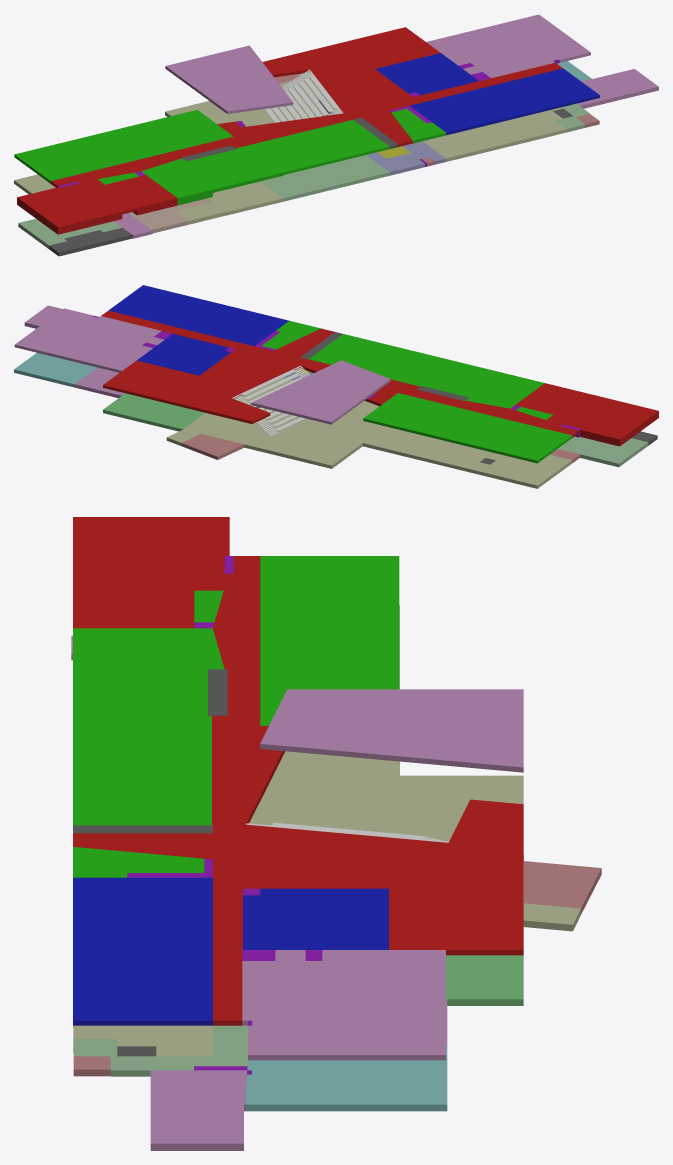
The model's file is HP_ylakoulu_lattiat.fbx.
3 views of the same model, one above another, from view 1: azimuth 30°, elevation 25°; view 2: azimuth 150°, elevation 25°; view 3: azimuth 270°, elevation 25° (orthographic). The views are drawn at different scales.
Parts seen in each view (by area): view 1: 3Sx2w7_Xj1WwjPFoUhchPs, 0JvsKLXr97uedzTtLonVL7, 1XAcVgHUT1_hqhwb8WZtsH, 0Q25QL5XXBWOU3B0rr2bVC, 0T1HHcRCD7l8njKDAKVagl, 29yJBF81f4cQ$mz9pebqa8, 0$y$bocg94qO5Yg2z1baHo, 0b$gtC8NLEfAL13YomXfX7, 1H4VGEfjr6kBUSTqSLbUBB, 2WGVbPY1v3bBXtQBcSOHvX, 36s_riun93x9s4in2yH6dV, 0g_fd8asP52A6I8m4xdDQW (+85 smaller); view 2: 3s9IEgrcr6s8_CiRSGP440, 3isSQK3Wn0Lw2MiONYXe3S, 1PxlLmPzL2jv0tPq4JHEZV, 2RDxyPFsH5audVr$kATFK7, 3ABXynqgrCjQQi4cBiM2nl, 3Sx2w7_Xj1WwjPFoUhchPs, 3m7nOLVGPEr9SlXtVJ8asn, 2WGVbPY1v3bBXtQBcSOHvX, 0g_fd8asP52A6I8m4xdDQW, 29yJBF81f4cQ$mz9pebqa8, 0b$gtC8NLEfAL13YomXfX7, 1H4VGEfjr6kBUSTqSLbUBB (+90 smaller); view 3: 3ABXynqgrCjQQi4cBiM2nl, 3Sx2w7_Xj1WwjPFoUhchPs, 3xx2r5phD6UhOp1UZ8fkfN, 0g_fd8asP52A6I8m4xdDQW, 0z5WwFlV97Ixe3FqGdU0d0, 29yJBF81f4cQ$mz9pebqa8, 3Q8IfFkgv31Og4U_YzRl5z, 0b$gtC8NLEfAL13YomXfX7, 0QmtLCYJn7qepGNhJcQa_j, 3isSQK3Wn0Lw2MiONYXe3S, 3v89wFmMHBe8UxUqZb2yNu, 2RDxyPFsH5audVr$kATFK7 (+91 smaller).
Boxes of the visible parts, x1,y1,x2,y2 form: 3Sx2w7_Xj1WwjPFoUhchPs: (206, 86, 271, 113); 0JvsKLXr97uedzTtLonVL7: (301, 163, 365, 192); 1XAcVgHUT1_hqhwb8WZtsH: (37, 205, 89, 234); 0Q25QL5XXBWOU3B0rr2bVC: (121, 186, 177, 215); 0T1HHcRCD7l8njKDAKVagl: (262, 174, 320, 201); 29yJBF81f4cQ$mz9pebqa8: (414, 67, 478, 92); 0$y$bocg94qO5Yg2z1baHo: (69, 197, 122, 226); 0b$gtC8NLEfAL13YomXfX7: (395, 53, 459, 78); 1H4VGEfjr6kBUSTqSLbUBB: (185, 71, 245, 97); 2WGVbPY1v3bBXtQBcSOHvX: (165, 56, 225, 83); 36s_riun93x9s4in2yH6dV: (161, 177, 212, 205); 0g_fd8asP52A6I8m4xdDQW: (205, 45, 261, 70); 3s9IEgrcr6s8_CiRSGP440: (286, 442, 351, 468); 3isSQK3Wn0Lw2MiONYXe3S: (181, 434, 244, 459); 1PxlLmPzL2jv0tPq4JHEZV: (590, 418, 639, 446); 2RDxyPFsH5audVr$kATFK7: (205, 398, 270, 423); 3ABXynqgrCjQQi4cBiM2nl: (103, 395, 162, 422); 3Sx2w7_Xj1WwjPFoUhchPs: (333, 366, 390, 395); 3m7nOLVGPEr9SlXtVJ8asn: (143, 405, 201, 431); 2WGVbPY1v3bBXtQBcSOHvX: (293, 398, 350, 424); 0g_fd8asP52A6I8m4xdDQW: (251, 390, 312, 415); 29yJBF81f4cQ$mz9pebqa8: (155, 334, 216, 357); 0b$gtC8NLEfAL13YomXfX7: (137, 347, 198, 371); 1H4VGEfjr6kBUSTqSLbUBB: (313, 384, 370, 410); 3ABXynqgrCjQQi4cBiM2nl: (446, 960, 523, 1005); 3Sx2w7_Xj1WwjPFoUhchPs: (269, 689, 368, 726); 3xx2r5phD6UhOp1UZ8fkfN: (150, 1070, 246, 1114); 0g_fd8asP52A6I8m4xdDQW: (446, 726, 523, 772); 0z5WwFlV97Ixe3FqGdU0d0: (287, 1020, 368, 1060); 29yJBF81f4cQ$mz9pebqa8: (243, 906, 316, 949); 3Q8IfFkgv31Og4U_YzRl5z: (110, 1025, 248, 1076); 0b$gtC8NLEfAL13YomXfX7: (316, 906, 388, 949); 0QmtLCYJn7qepGNhJcQa_j: (135, 986, 212, 1025); 3isSQK3Wn0Lw2MiONYXe3S: (524, 861, 601, 914); 3v89wFmMHBe8UxUqZb2yNu: (260, 726, 368, 758); 2RDxyPFsH5audVr$kATFK7: (448, 799, 523, 849).
Size of the model in its own units: 10551 by 801 by 4096.
